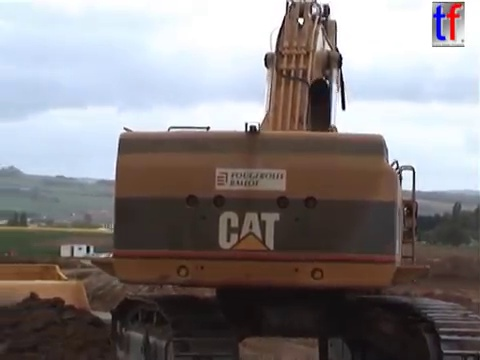excavator: (88, 1, 480, 360)
truck: (1, 260, 115, 360)
